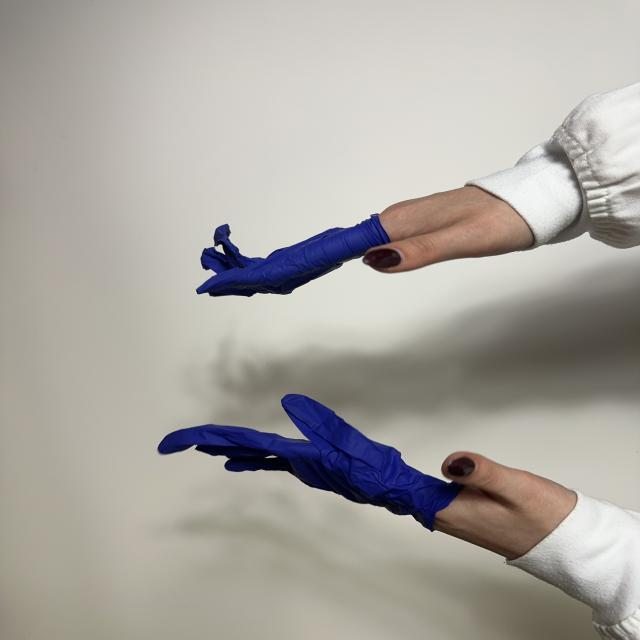glove_partial: (158, 394, 576, 560), (198, 186, 534, 297)
